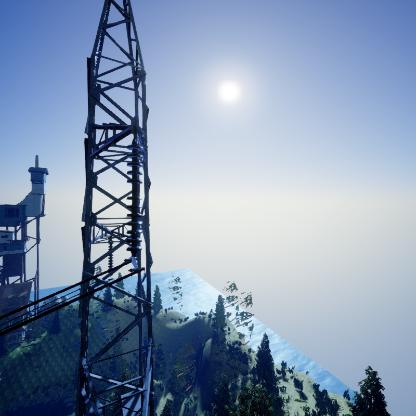insulator: (125, 142, 146, 262), (108, 240, 115, 277)
